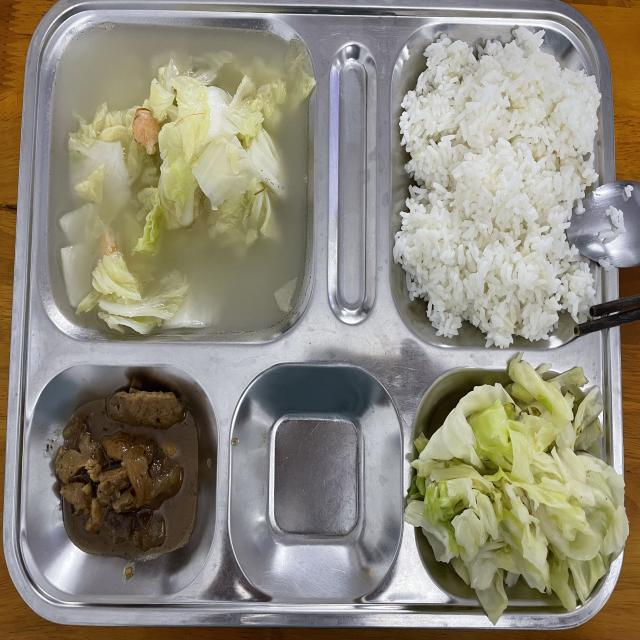bap cai luoc: (405, 355, 629, 621)
canh cai: (47, 23, 316, 340)
com: (393, 30, 600, 348)
kho tieu: (46, 388, 198, 557)
